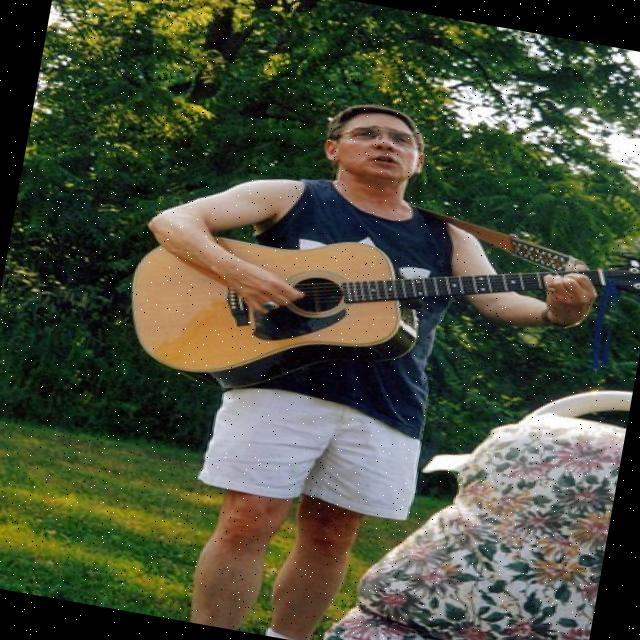guitar: (117, 173, 640, 457)
